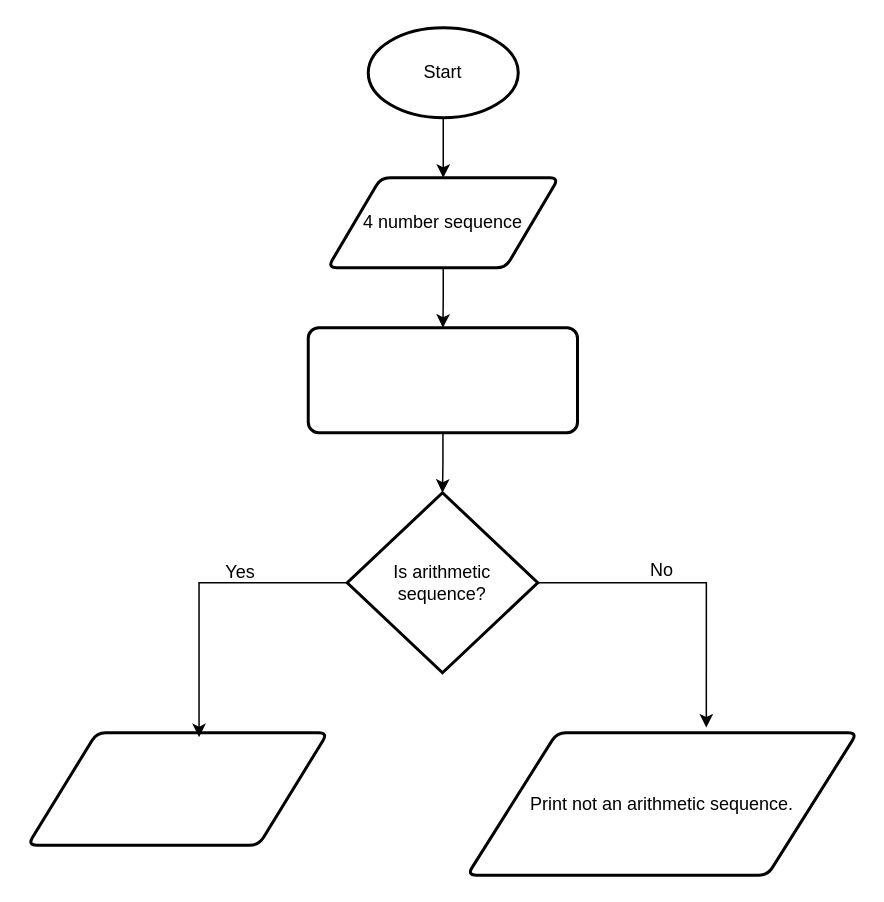
The diagram is 884 pixels wide and 902 high, and some of its shapes have lost their labels. The shapes that lost their labels are listed below. From the top down, each one's centre as x and y in pixels, then its label:
the point at 442,380: sequence[i+1] - sequence[i] = commonDifference
the point at 177,788: Print commonDifference
